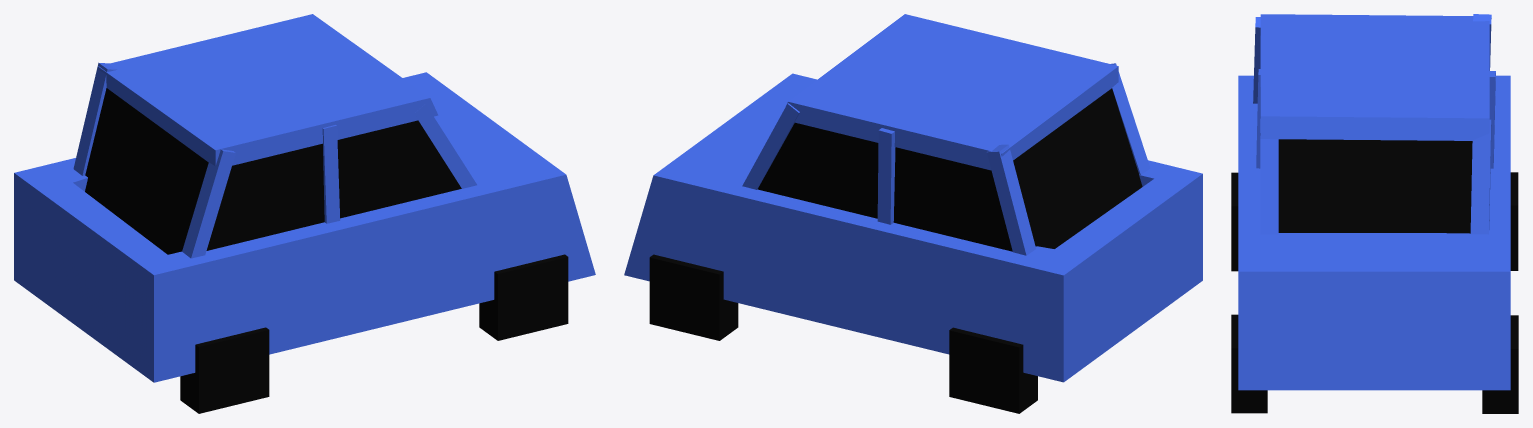
The model's file is bCar.fbx.
3 views of the same model, side by side, from view 1: azimuth 30°, elevation 25°; view 2: azimuth 150°, elevation 25°; view 3: azimuth 270°, elevation 25° (orthographic). The views are drawn at different scales.
Parts seen in each view (by area): view 1: CarBody.001, CarBody.002, carwind, Cube.003, Cube.002, Cube.008, Cube.007, Cube.009, Cube.001; view 2: CarBody.001, CarBody.002, carwind, Cube.004, Cube.005, Cube.007, Cube.010, Cube.006, Cube.008; view 3: CarBody.001, CarBody.002, carwind, Cube.006, Cube.001, Cube.004, Cube.003, Cube.005, Cube.002, Cube.010, Cube.008, Cube.009.
Boxes of the visible parts, <box> form: CarBody.001: <box>14,72,595,382</box>; CarBody.002: <box>98,14,438,165</box>; carwind: <box>85,88,461,254</box>; Cube.003: <box>479,254,568,340</box>; Cube.002: <box>180,327,269,413</box>; Cube.008: <box>182,149,235,258</box>; Cube.007: <box>73,62,116,175</box>; Cube.009: <box>322,125,340,223</box>; Cube.001: <box>414,104,476,188</box>; CarBody.001: <box>624,73,1202,382</box>; CarBody.002: <box>786,14,1118,170</box>; carwind: <box>757,88,1142,251</box>; Cube.004: <box>649,254,738,340</box>; Cube.005: <box>949,327,1037,413</box>; Cube.007: <box>986,144,1035,255</box>; Cube.010: <box>877,128,895,224</box>; Cube.006: <box>742,103,799,189</box>; Cube.008: <box>1111,63,1150,174</box>; CarBody.001: <box>1238,75,1510,390</box>; CarBody.002: <box>1260,14,1489,140</box>; carwind: <box>1278,139,1472,233</box>; Cube.006: <box>1470,119,1491,234</box>; Cube.001: <box>1260,119,1278,234</box>; Cube.004: <box>1482,315,1518,413</box>; Cube.003: <box>1231,314,1267,413</box>; Cube.005: <box>1510,172,1518,270</box>; Cube.002: <box>1231,172,1238,271</box>; Cube.010: <box>1489,71,1495,168</box>; Cube.008: <box>1253,17,1260,103</box>; Cube.009: <box>1256,69,1260,168</box>.
Bounding box in the file's own units: 401 × 213 × 232.
